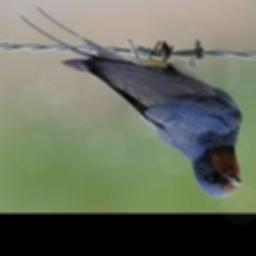Swallow: (19, 6, 243, 198)
